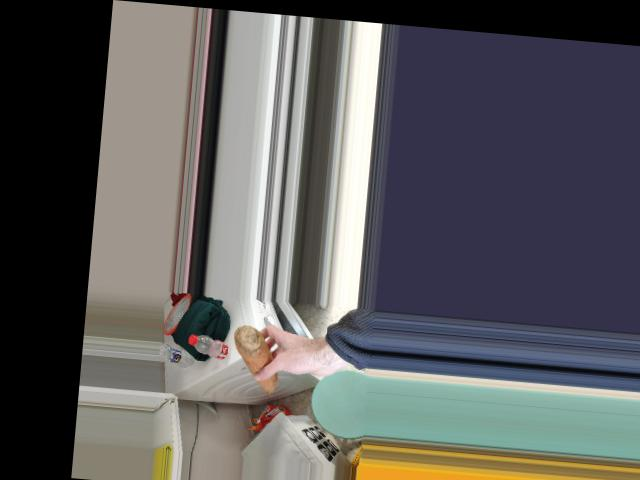sweet_potato: (228, 324, 280, 393)
